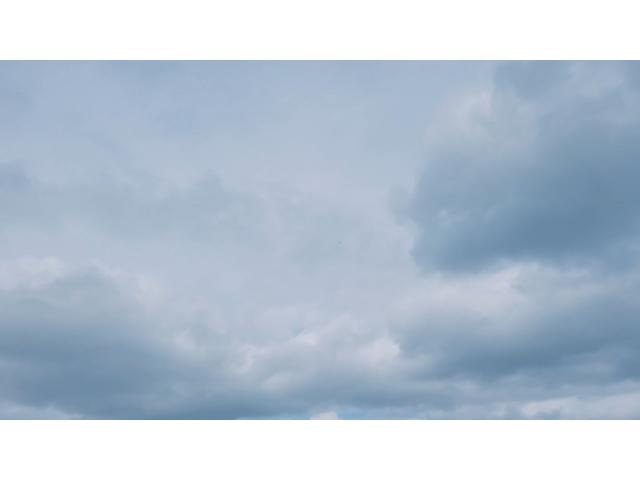Anti-Drone: (331, 237, 347, 247)
